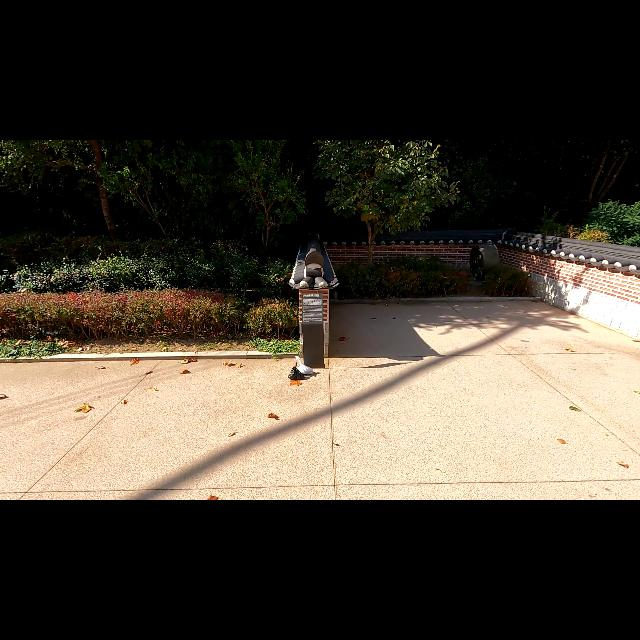trash: (294, 356, 316, 374), (288, 363, 306, 382)
